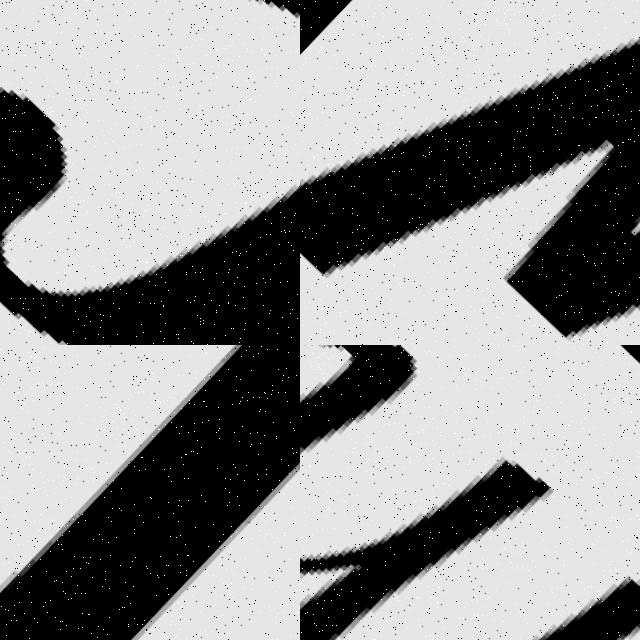C: (0, 85, 300, 345)
L: (0, 345, 300, 640)
M: (300, 345, 640, 640)
W: (300, 0, 640, 345)
